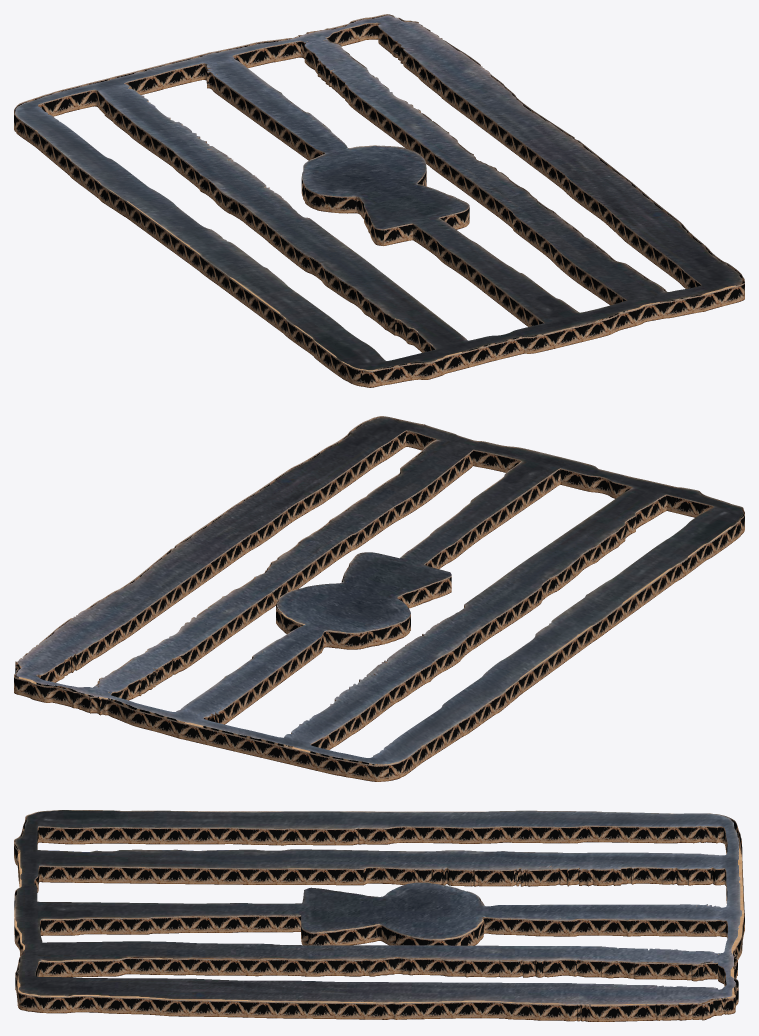
The model's file is Barrotes.fbx.
The picture shows the model from 3 angles, top to bottom: view 1: azimuth 30°, elevation 25°; view 2: azimuth 150°, elevation 25°; view 3: azimuth 270°, elevation 25°; orthographic projection. The views are drawn at different scales.
Visible parts, largest first — view 1: Shape1; view 2: Shape1; view 3: Shape1.
Part boxes in pixels (bbox=[...]): Shape1: bbox=[14, 14, 744, 387]; Shape1: bbox=[14, 416, 744, 781]; Shape1: bbox=[14, 810, 744, 1021].
Size of the model in its own units: 2.55 by 0.1 by 4.03.
